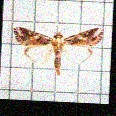Spodoptera litura: (12, 24, 102, 75)
